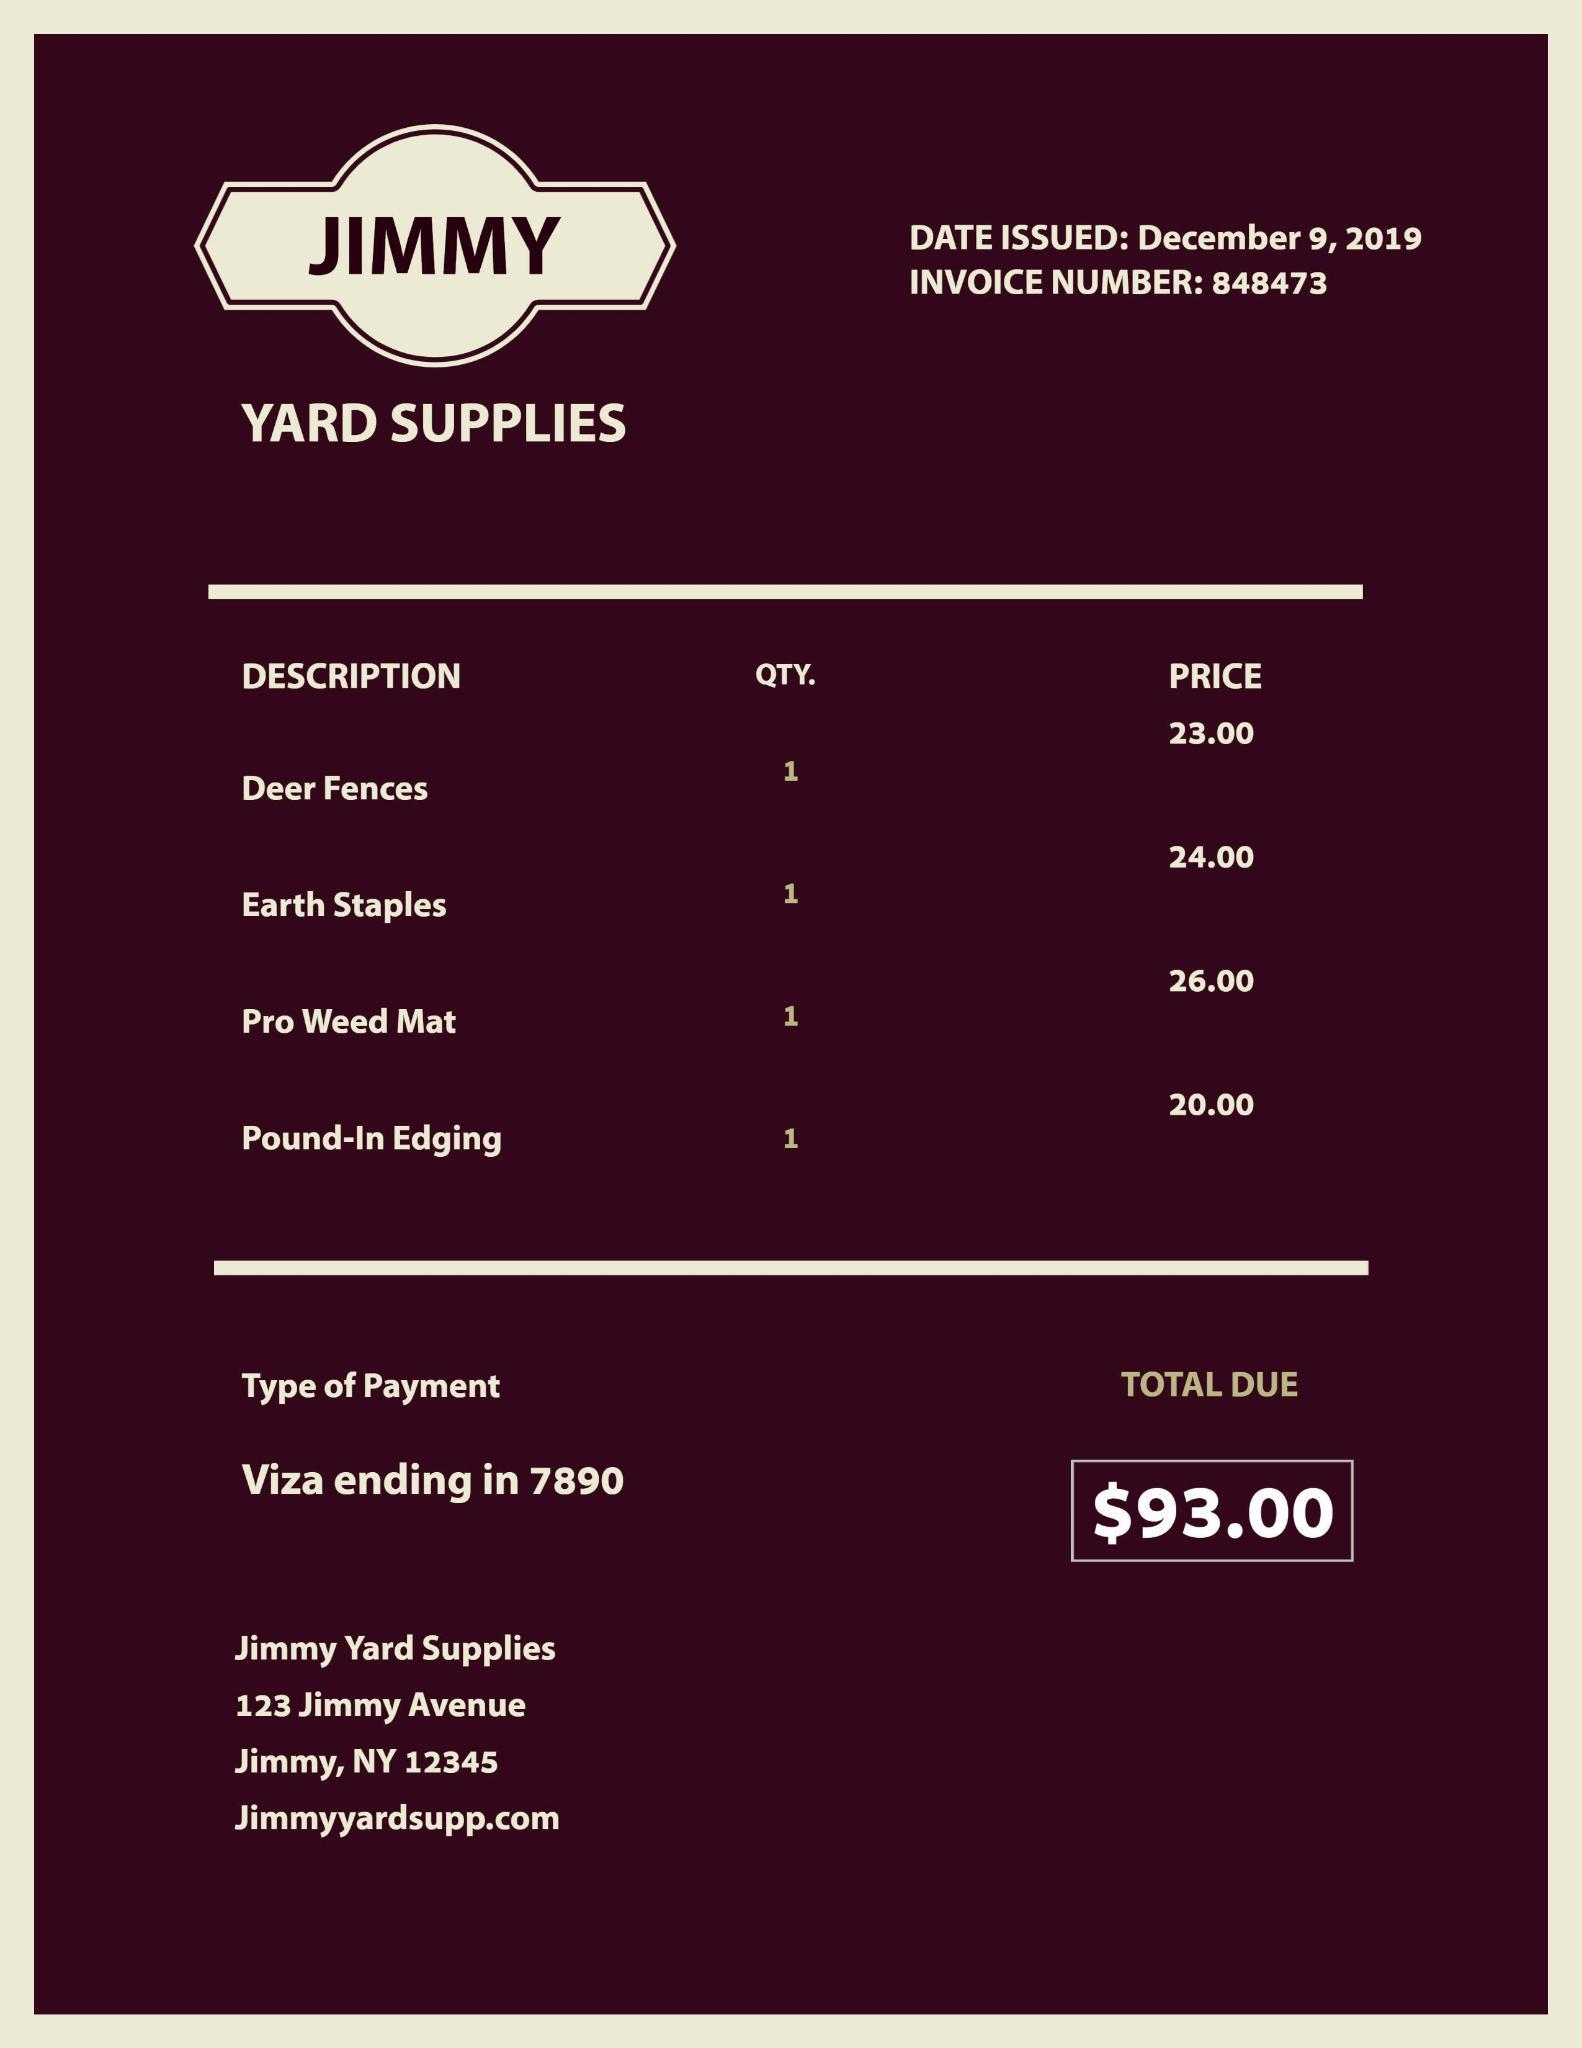ROI: (198, 563, 1368, 1198), (209, 1619, 593, 1855), (1029, 1349, 1384, 1576), (872, 203, 1452, 332), (233, 1360, 650, 1526), (224, 390, 651, 460), (301, 203, 573, 284)
